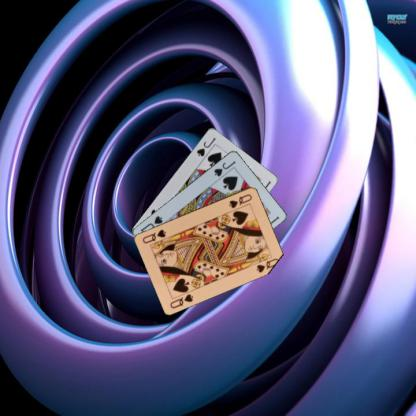Js: (194, 134, 217, 158), (211, 158, 237, 177)
Qs: (168, 291, 194, 310), (227, 191, 253, 209)
